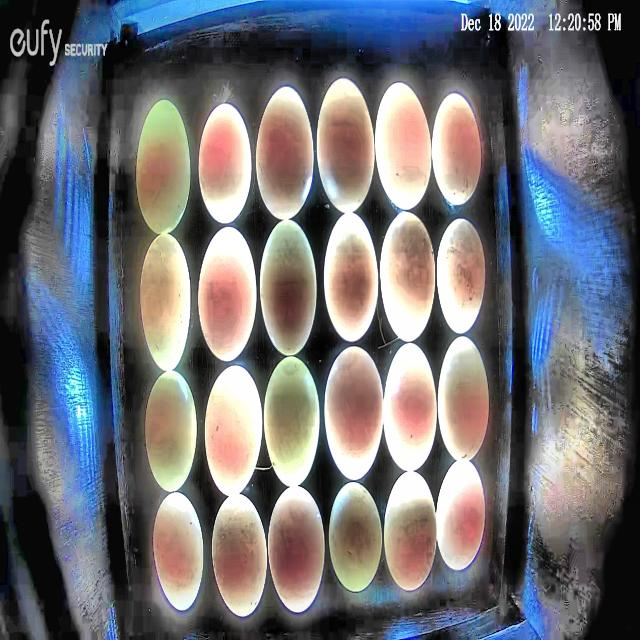UF: (323, 344, 385, 482), (132, 97, 192, 238), (257, 220, 319, 356), (316, 76, 376, 216), (197, 224, 257, 362), (256, 84, 315, 221), (204, 365, 264, 498), (378, 209, 436, 344), (268, 484, 326, 616), (373, 81, 432, 210), (210, 490, 269, 619), (138, 234, 192, 374), (322, 211, 379, 343), (383, 338, 438, 474), (265, 356, 321, 488), (436, 335, 491, 465), (197, 102, 253, 226), (383, 471, 438, 594), (144, 372, 199, 494), (152, 491, 205, 614), (328, 482, 383, 592), (436, 216, 486, 336), (432, 91, 483, 208), (436, 461, 485, 572)
